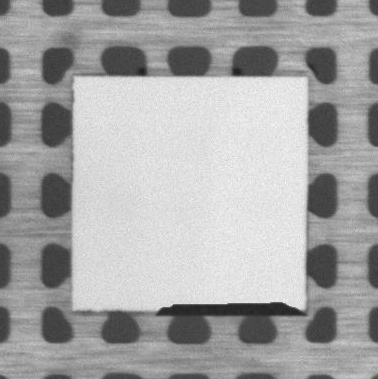DIE_BROKEN: (152, 299, 308, 317)
